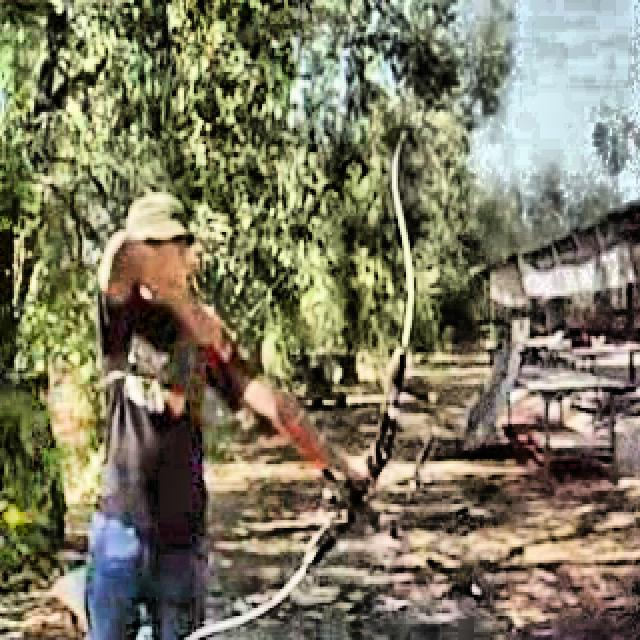I: (74, 176, 369, 640)
